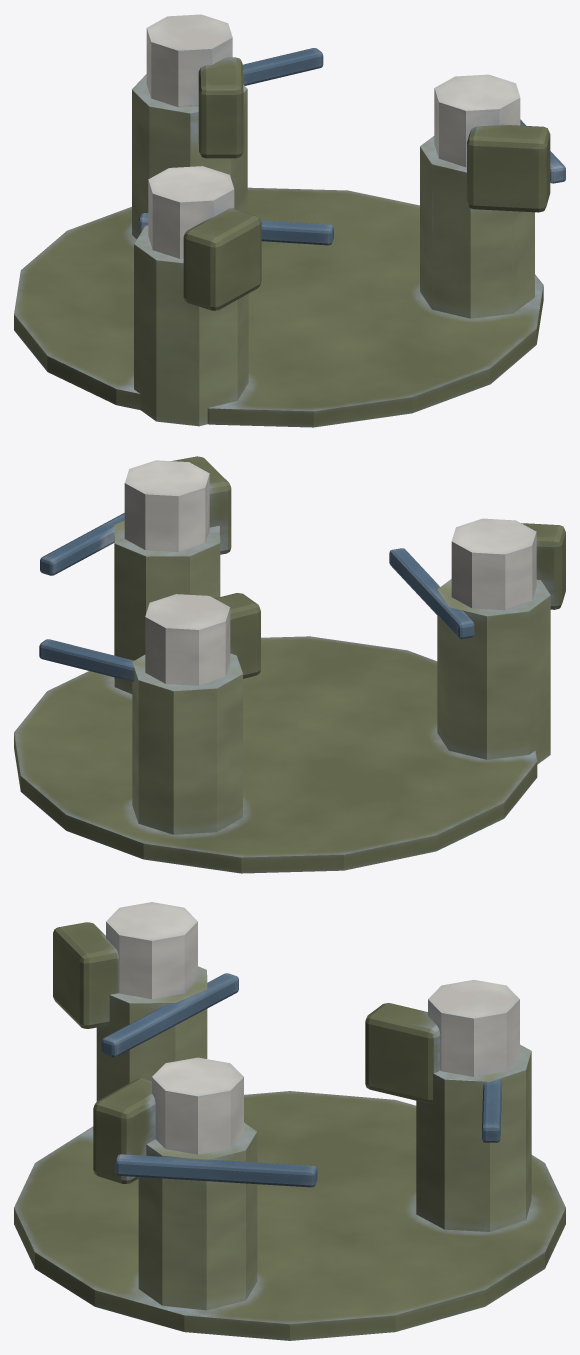
File: com_rifle_squad.glb
The picture shows the model from 3 angles, top to bottom: view 1: azimuth 30°, elevation 25°; view 2: azimuth 150°, elevation 25°; view 3: azimuth 270°, elevation 25°; orthographic projection. The views are drawn at different scales.
Visible parts, largest first — view 1: com_rifle_squad; view 2: com_rifle_squad; view 3: com_rifle_squad.
Part boxes in pixels (x1,y1,x2,y2): com_rifle_squad: (14,14,565,427); com_rifle_squad: (14,456,565,873); com_rifle_squad: (14,902,565,1340).
Size of the model in its own units: 0.6 by 0.27 by 0.6.
1 material, 1 textured.
